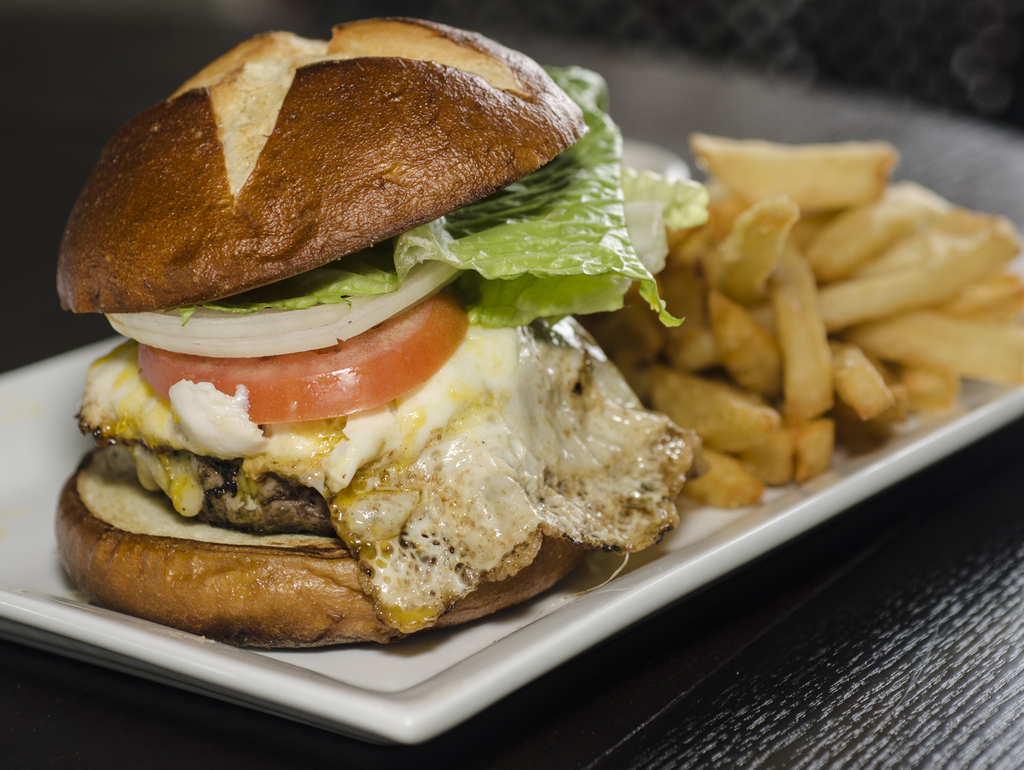French fries: (565, 96, 1023, 520)
